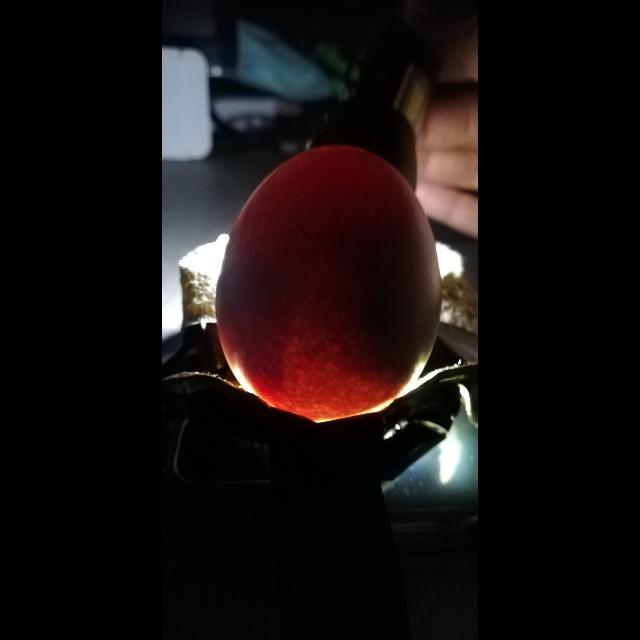Fertile: (214, 139, 444, 429)
